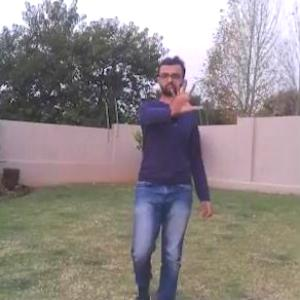follow_hand: (164, 74, 206, 118)
